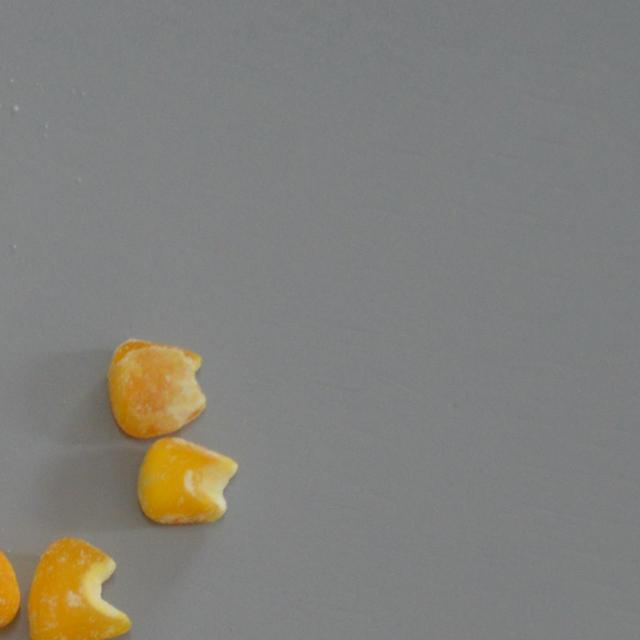pelicula: (26, 536, 133, 640), (106, 338, 206, 439), (135, 436, 238, 525), (0, 542, 20, 640)
